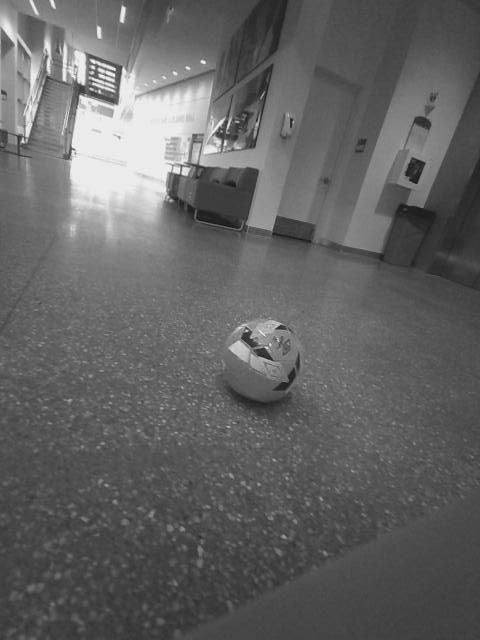ball: (215, 314, 311, 405)
